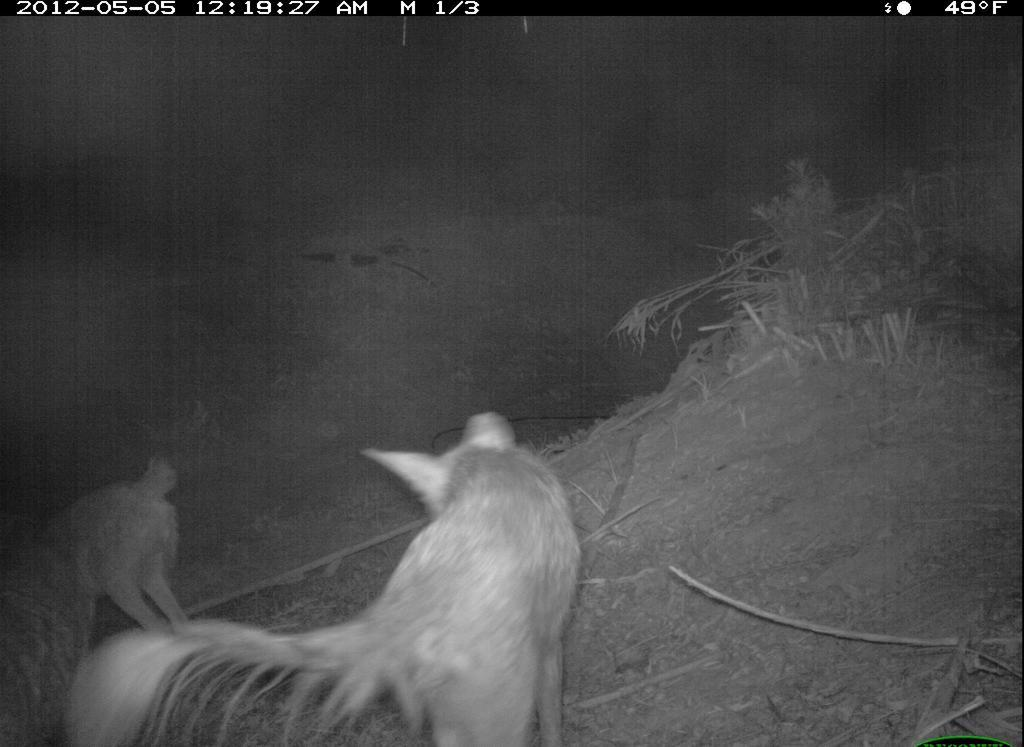coyote: (55, 404, 591, 747), (4, 443, 203, 664)
